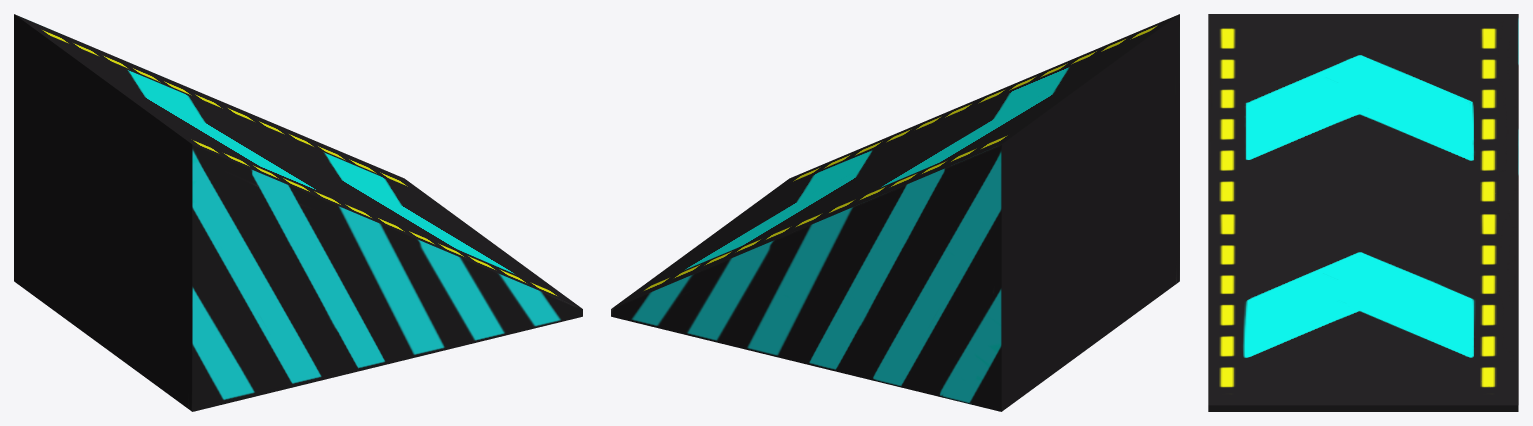
File: Ramp.fbx
3 views of the same model, side by side, from view 1: azimuth 30°, elevation 25°; view 2: azimuth 150°, elevation 25°; view 3: azimuth 270°, elevation 25° (orthographic). The views are drawn at different scales.
Visible parts, largest first — view 1: Cube; view 2: Cube; view 3: Cube.
Boxes of the visible parts, box(x1,y1,x2,y2) form: Cube: box(14, 14, 582, 411); Cube: box(611, 14, 1179, 411); Cube: box(1208, 14, 1518, 411).
Size of the model in its own units: 501 by 328 by 397.
Materials: 1 (1 with a texture image).
